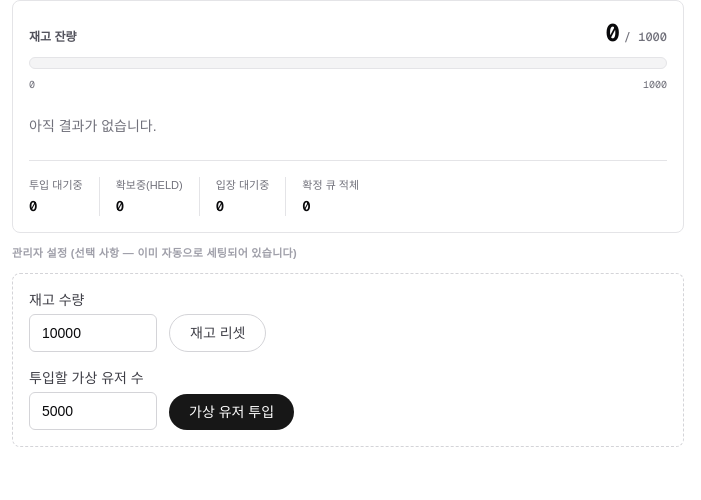
Scenario: LoadTestDashboard › 상한(LOAD_TEST_MAX_VU) 초과 등 시뮬레이션 요청이 실패하면 에러 메시지를 보여준다
Click the button "가상 유저 투입". click: (232, 412)
box: [169,394,294,430]
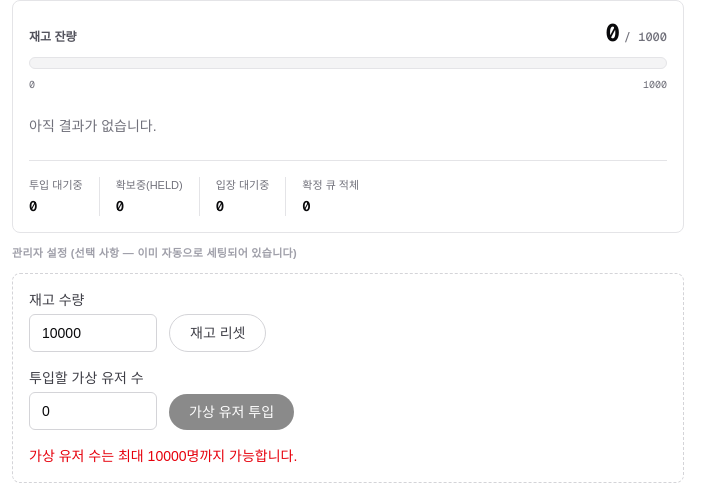
expect the text "가상 유저 수는 최대 10000명까지 가능합니다." is shown: met, box [29,448,297,464]
